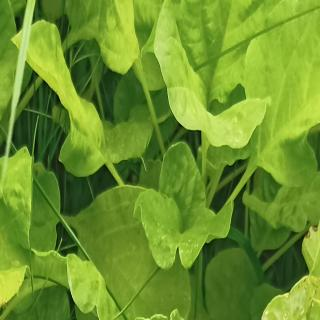karat_putih: (256, 263, 320, 320)
virus_keriting: (116, 299, 218, 320)
